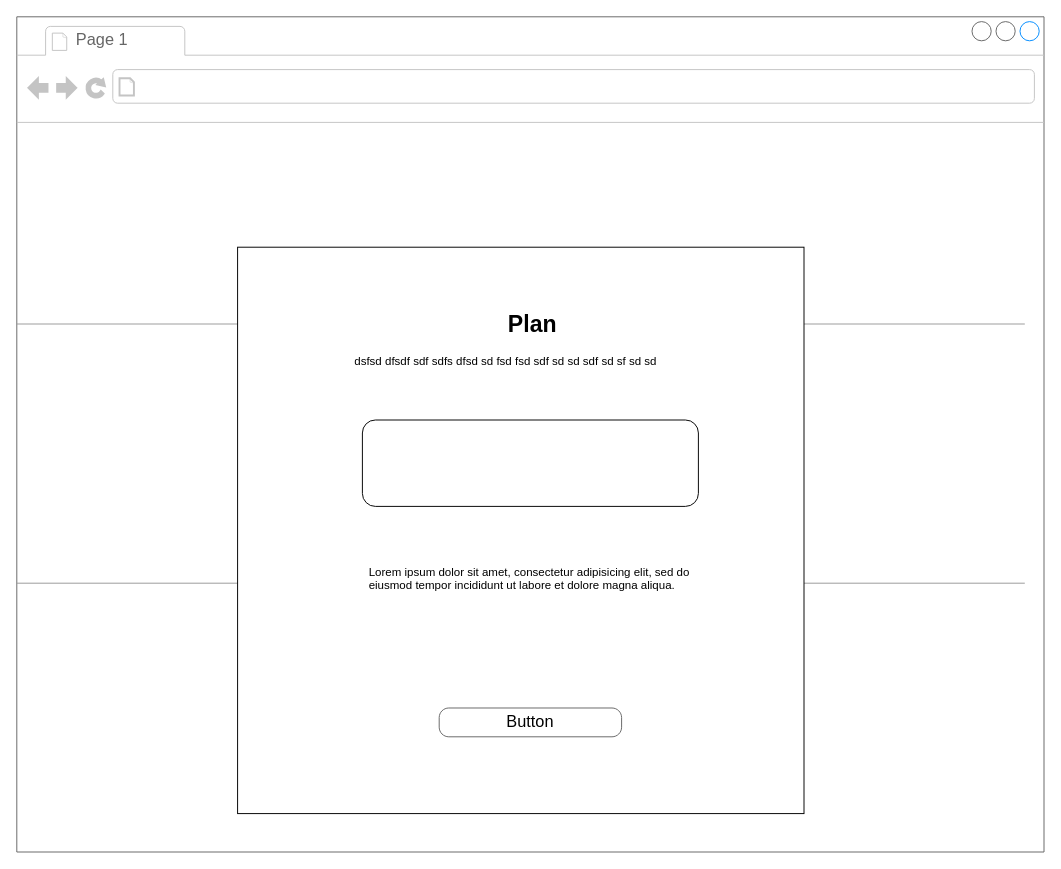
The diagram is 1061 pixels wide and 869 high, and some of its shapes have lost their labels. The shapes that lost their labels are listed below. From the top down, each one's centre as x and y in pixels, then its label:
At (261,86): "https://www.default.com".
At (529,462): "ENTER AMOUNT ( INPUT )".
